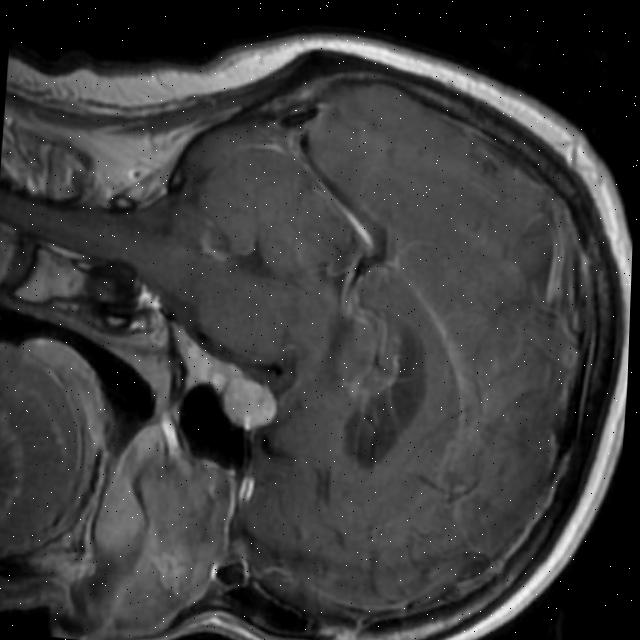Pituitary: (221, 374, 279, 432)
